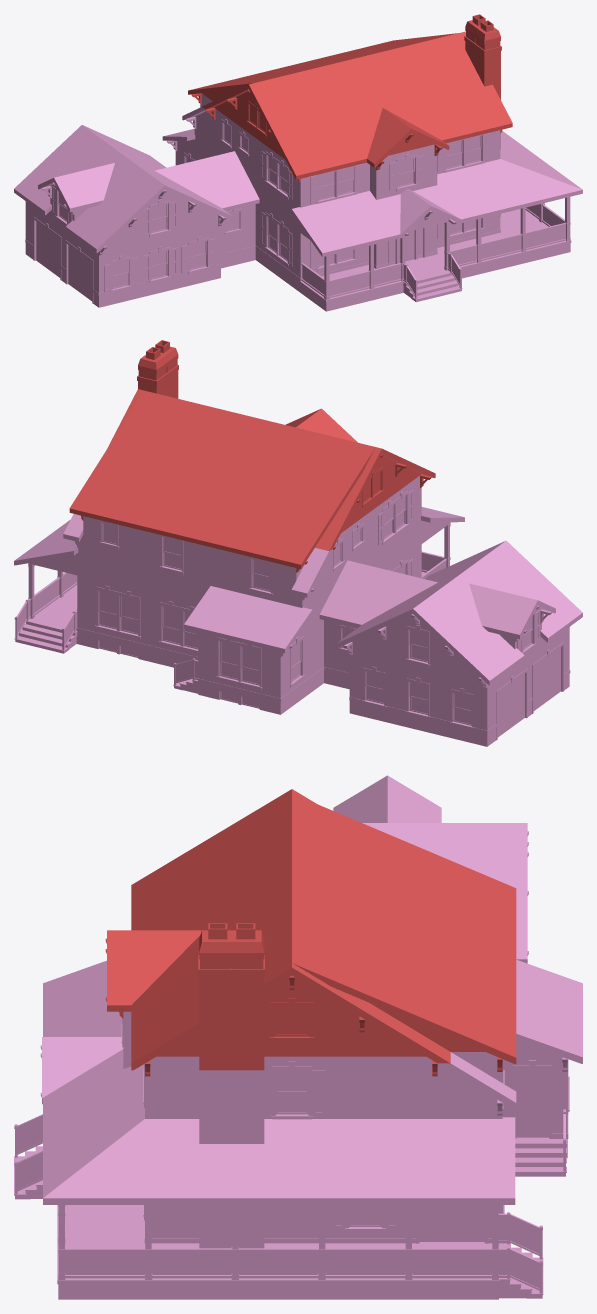
The model's file is house.obj.
3 views of the same model, one above another, from view 1: azimuth 30°, elevation 25°; view 2: azimuth 150°, elevation 25°; view 3: azimuth 270°, elevation 25° (orthographic). The views are drawn at different scales.
Parts seen in each view (by area): view 1: Second_Floor_001, Layer0_001, Roof_001; view 2: Second_Floor_001, Roof_001, Layer0_001; view 3: Second_Floor_001, Roof_001, Layer0_001.
Boxes of the visible parts, x1,y1,x2,y2 form: Second_Floor_001: [14, 93, 582, 256]; Layer0_001: [25, 142, 571, 311]; Roof_001: [188, 14, 512, 182]; Second_Floor_001: [14, 476, 582, 687]; Roof_001: [69, 340, 435, 572]; Layer0_001: [14, 523, 570, 746]; Second_Floor_001: [40, 775, 582, 1204]; Roof_001: [105, 789, 516, 1076]; Layer0_001: [14, 1055, 569, 1299].
Size of the model in its own units: 23484 by 10654 by 15997.
